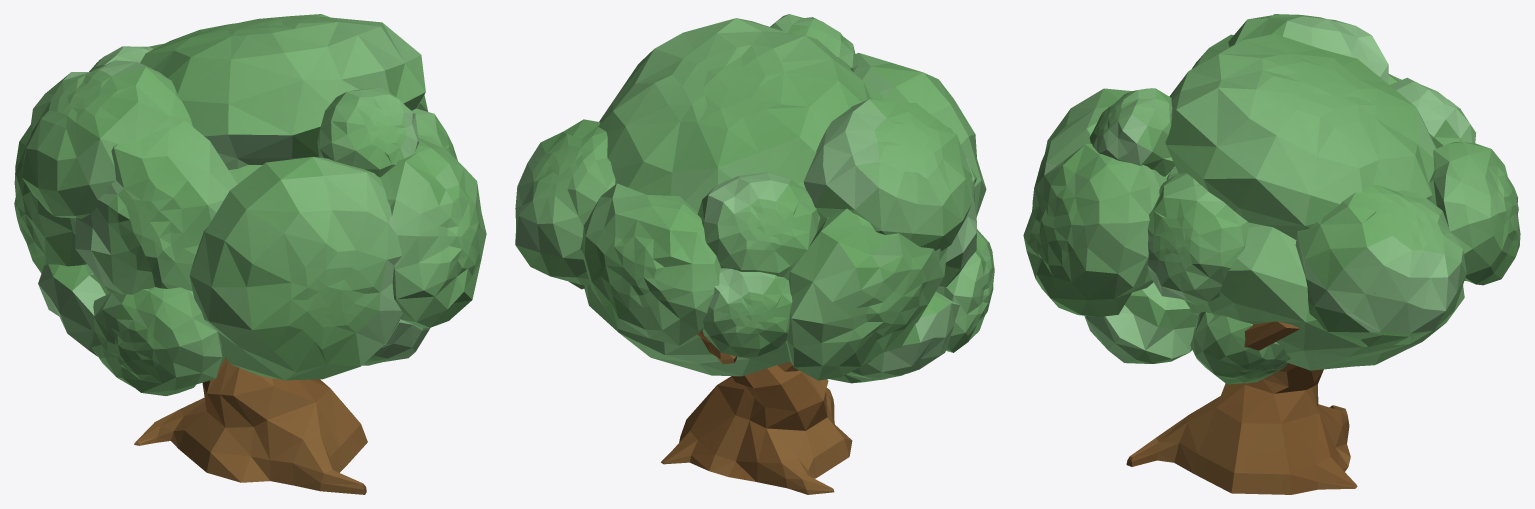
File: bush_1.dae
3 views of the same model, side by side, from view 1: azimuth 30°, elevation 25°; view 2: azimuth 150°, elevation 25°; view 3: azimuth 270°, elevation 25° (orthographic). The views are drawn at different scales.
Parts seen in each view (by area): view 1: bush_1_crown, bush_1_trunk; view 2: bush_1_crown, bush_1_trunk; view 3: bush_1_crown, bush_1_trunk.
Part boxes in pixels (bbox=[...]): bush_1_crown: bbox=[14, 14, 486, 395]; bush_1_trunk: bbox=[134, 359, 367, 494]; bush_1_crown: bbox=[515, 14, 994, 383]; bush_1_trunk: bbox=[661, 331, 852, 494]; bush_1_crown: bbox=[1023, 14, 1520, 384]; bush_1_trunk: bbox=[1126, 293, 1375, 494].
Size of the model in its own units: 2 by 2.15 by 1.9.
Materials: 1 (1 with a texture image).
